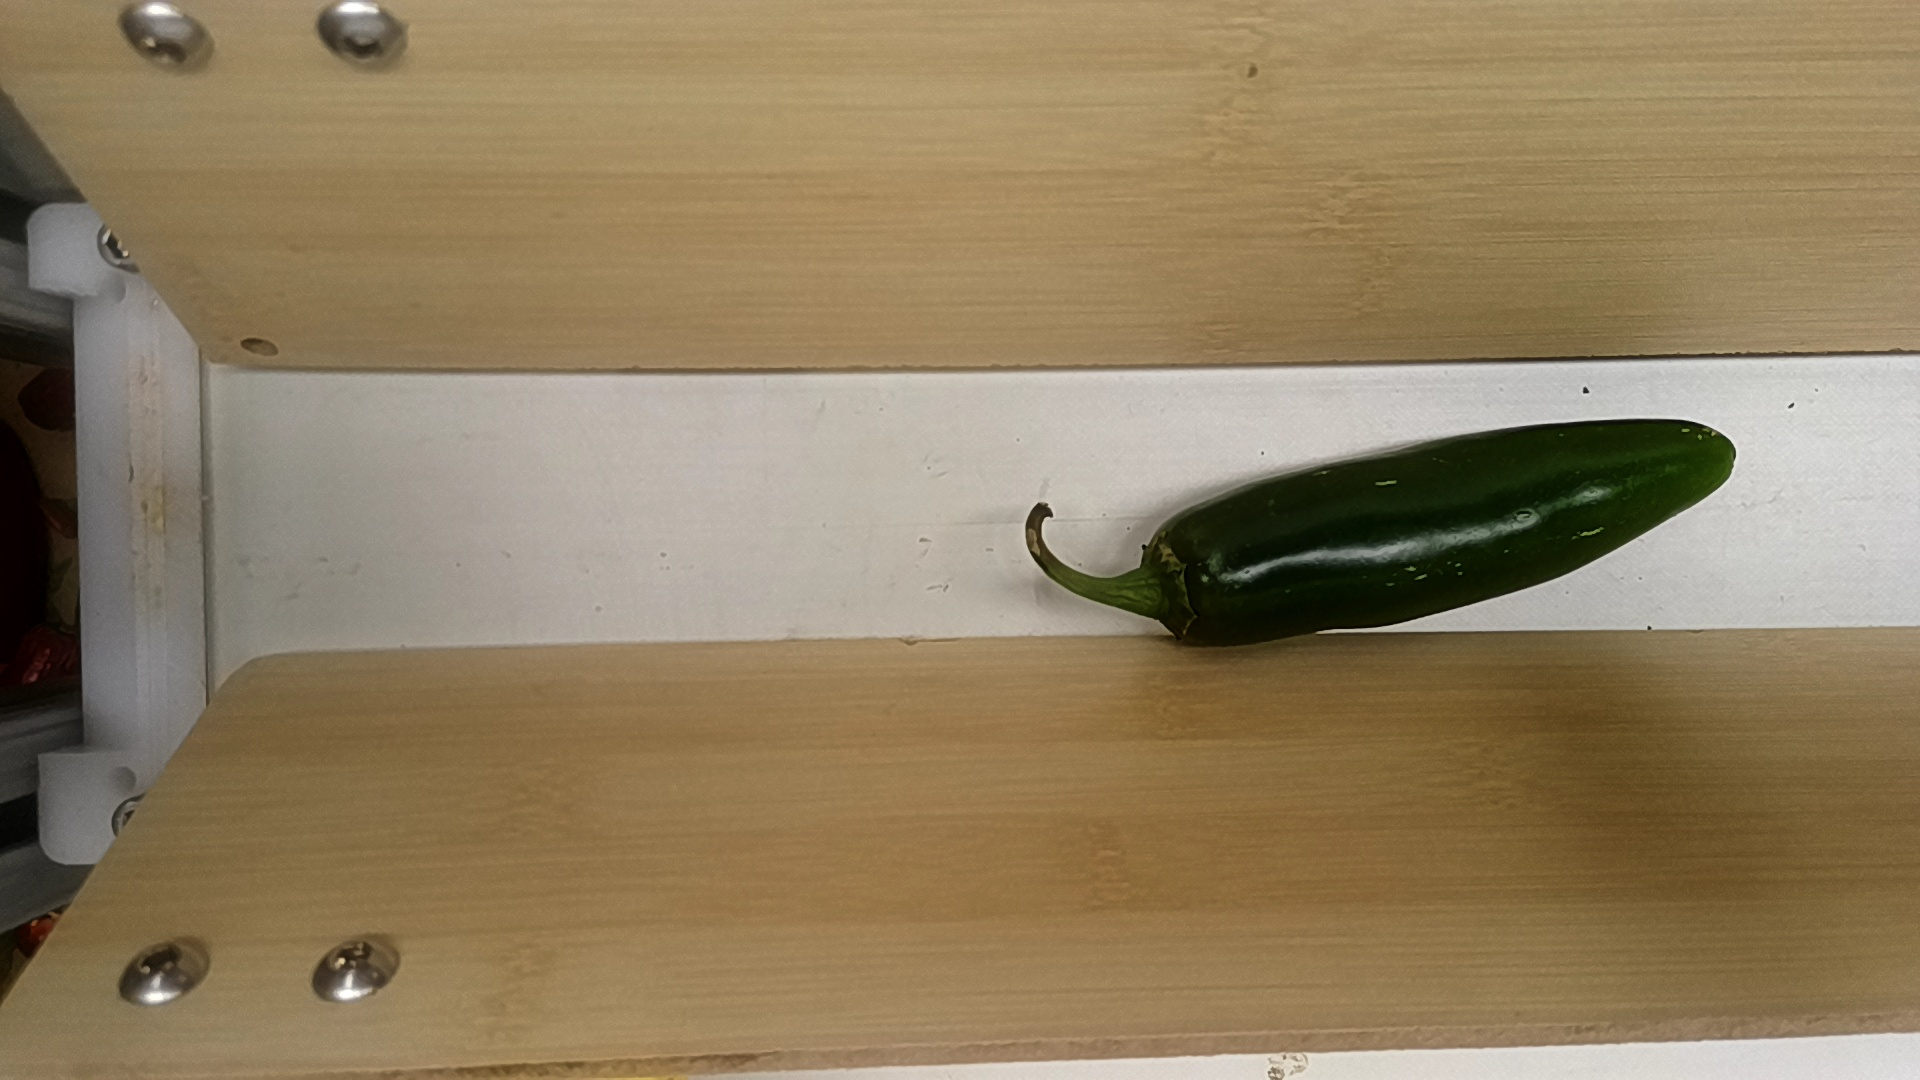Cut Point: (1129, 516, 1237, 651)
